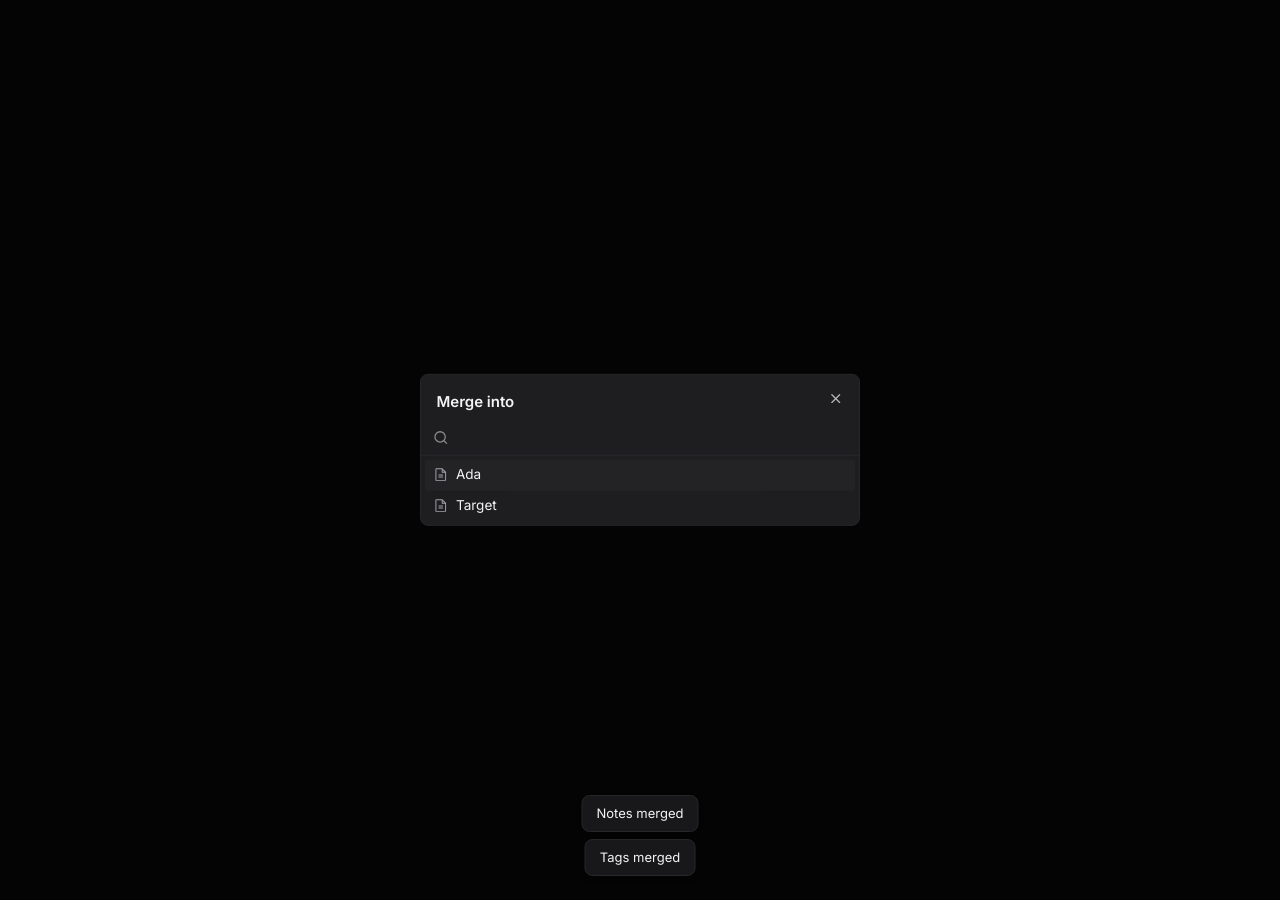
Test case: MergeDialog › test errors use the expected strings
This screenshot has width=1280, height=900.
Later steps or results of the test are not shown.
Click the option "Target".
click(465, 505)  # box [433,497,497,514]
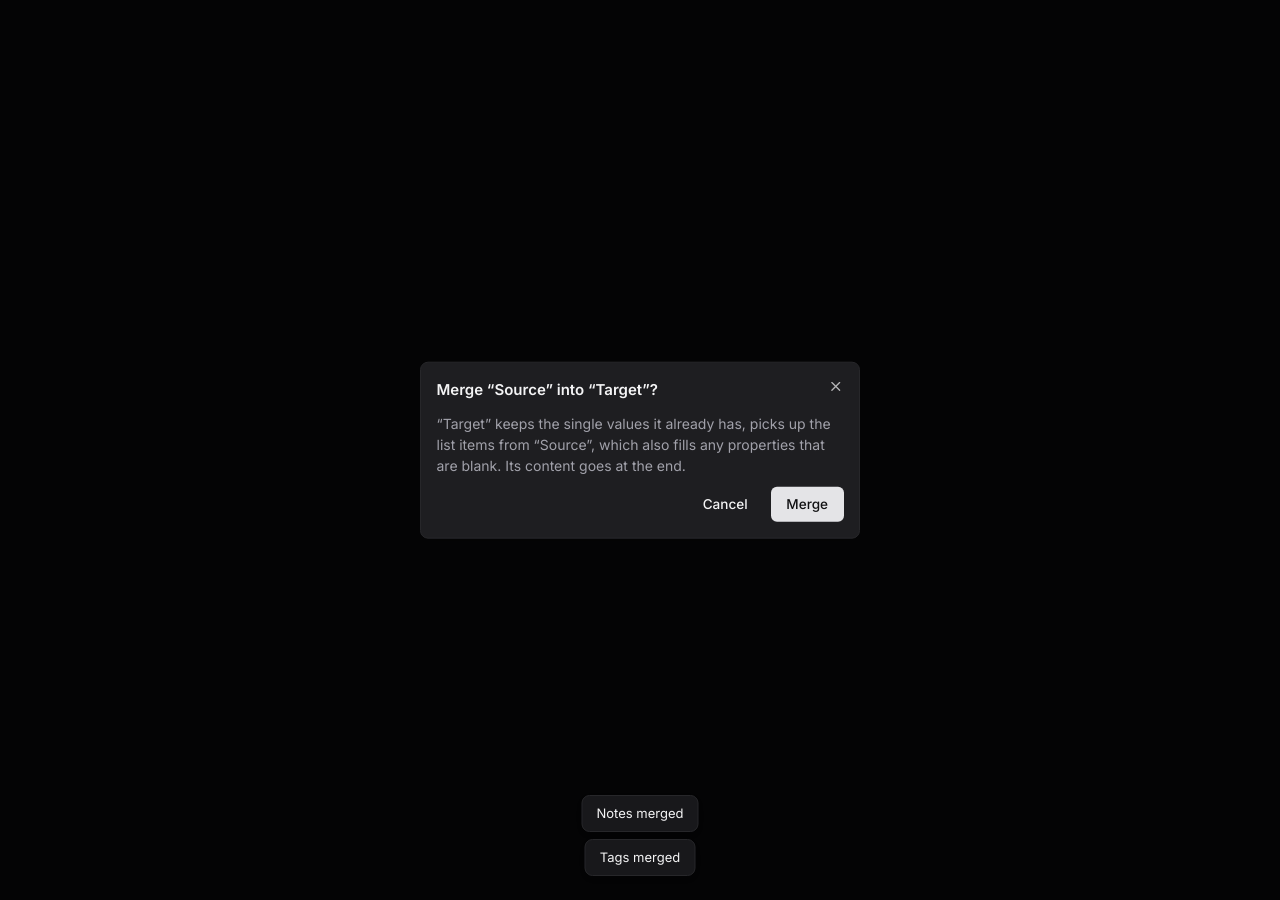
Click the button "Merge".
click(807, 504)  # box [771,487,844,522]
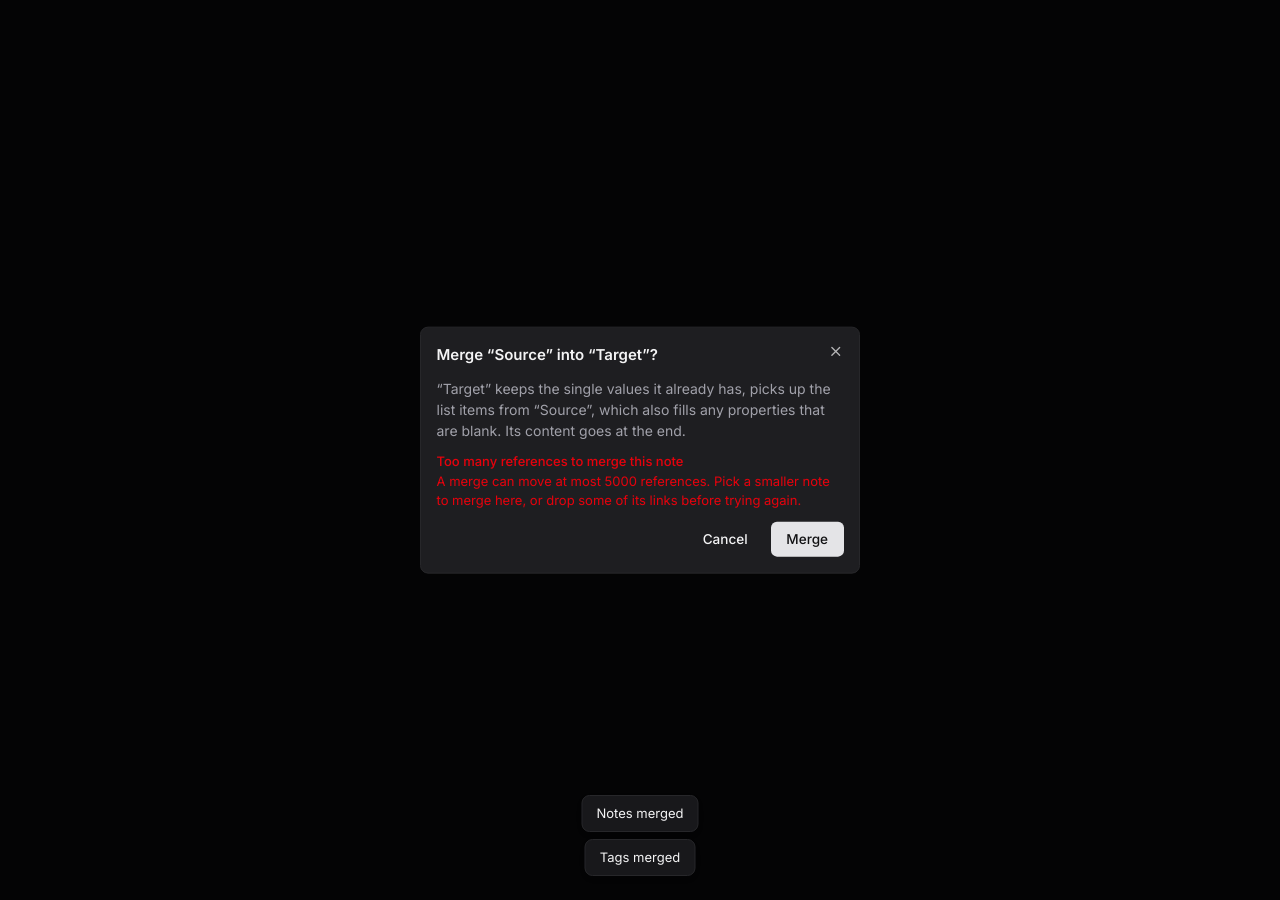
expect the text "Too many references to merge this note" is shown: met, box [436,453,684,469]
Click the button "Merge".
click(807, 539)  # box [771,522,844,557]
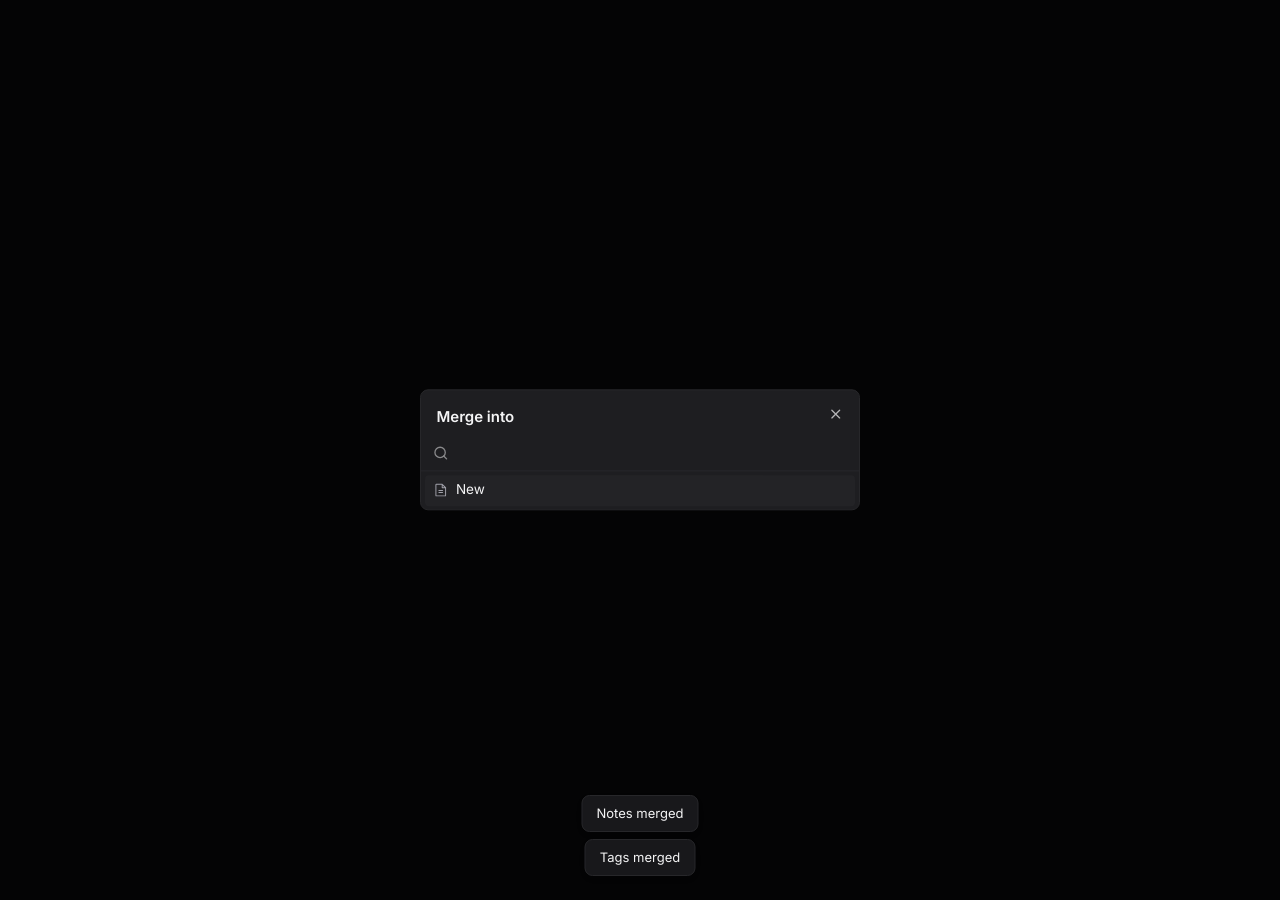
Click the option "New".
click(440, 490)  # box [425,475,855,506]
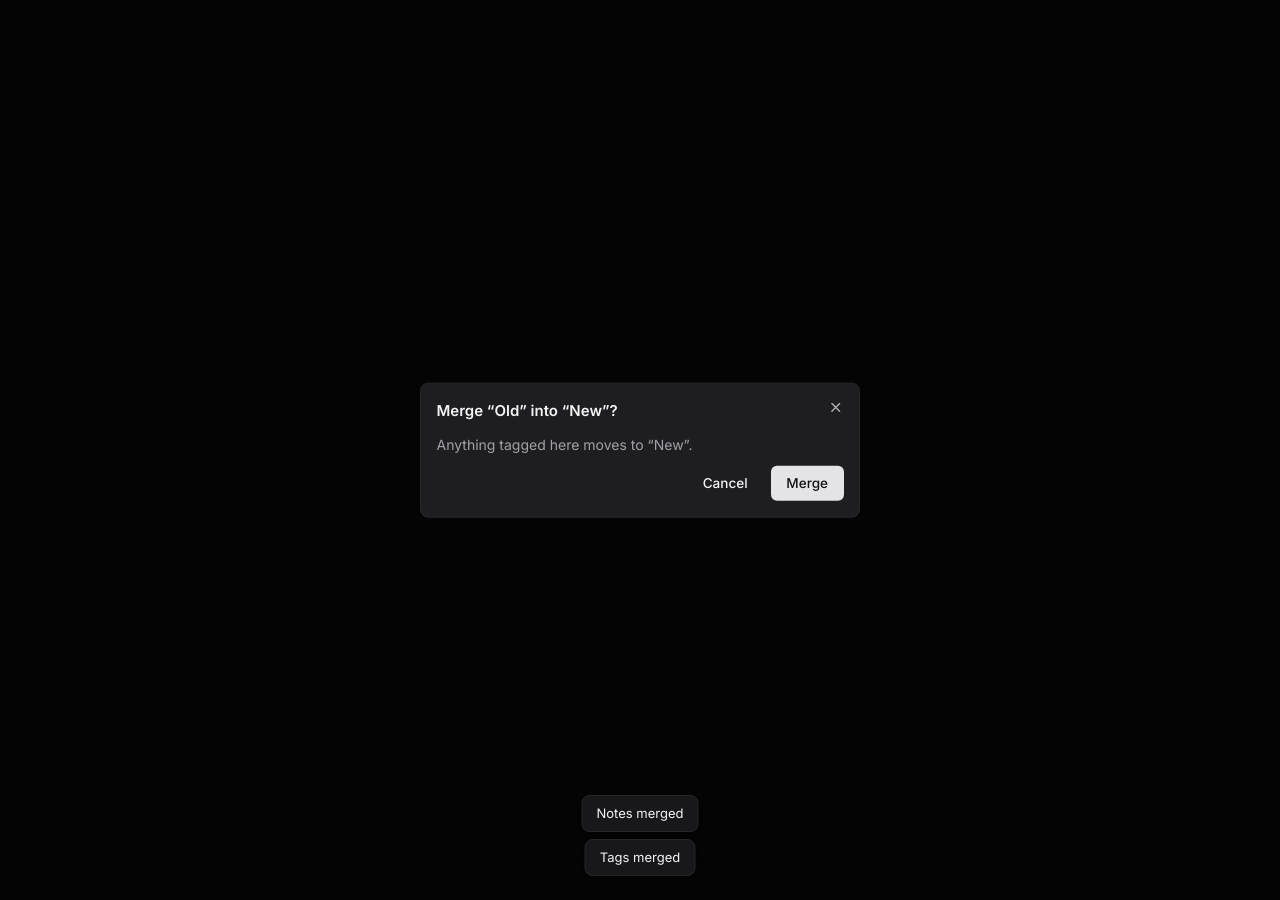
Click the button "Merge".
click(807, 483)  # box [771,466,844,501]
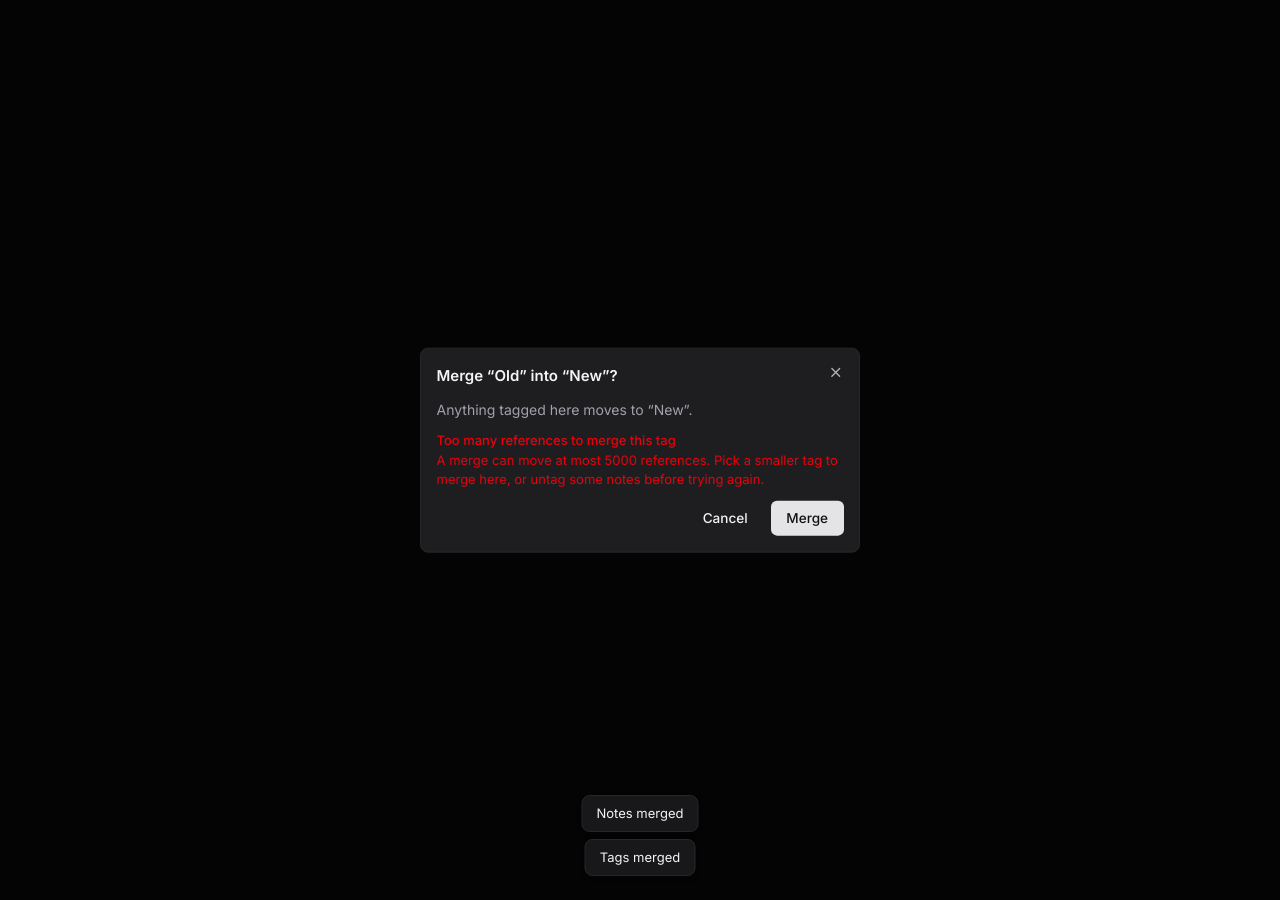
expect the text "Too many references to merge this tag" is shown: met, box [436,432,676,448]
expect the text "A merge can move at most 5000 references. Pick a smaller tag to merge here, or untag some notes before trying again." is shown: met, box [436,451,838,487]
Click the button "Merge".
click(807, 518)  # box [771,501,844,536]
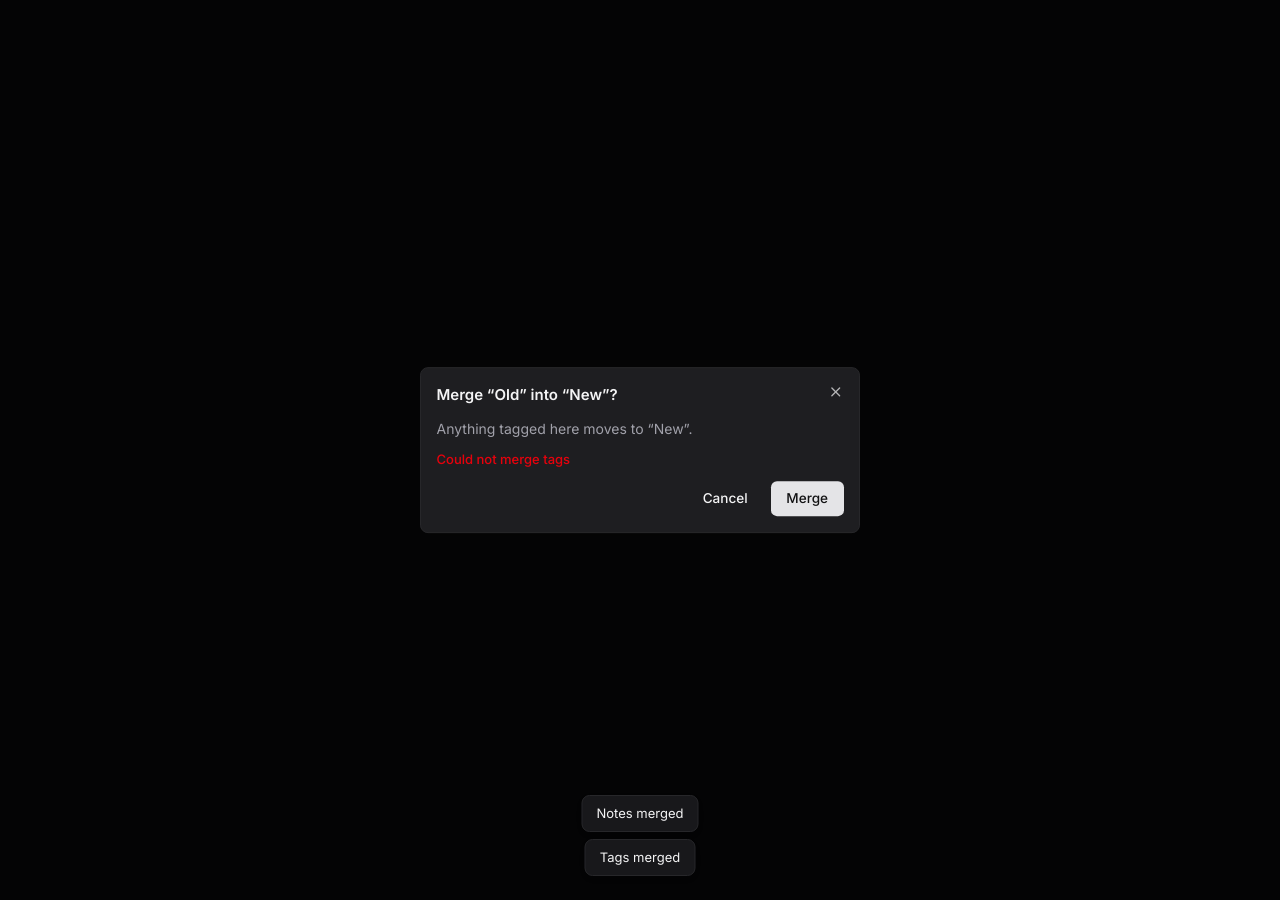
expect the text "Could not merge tags" is shown: met, box [436,451,570,467]
